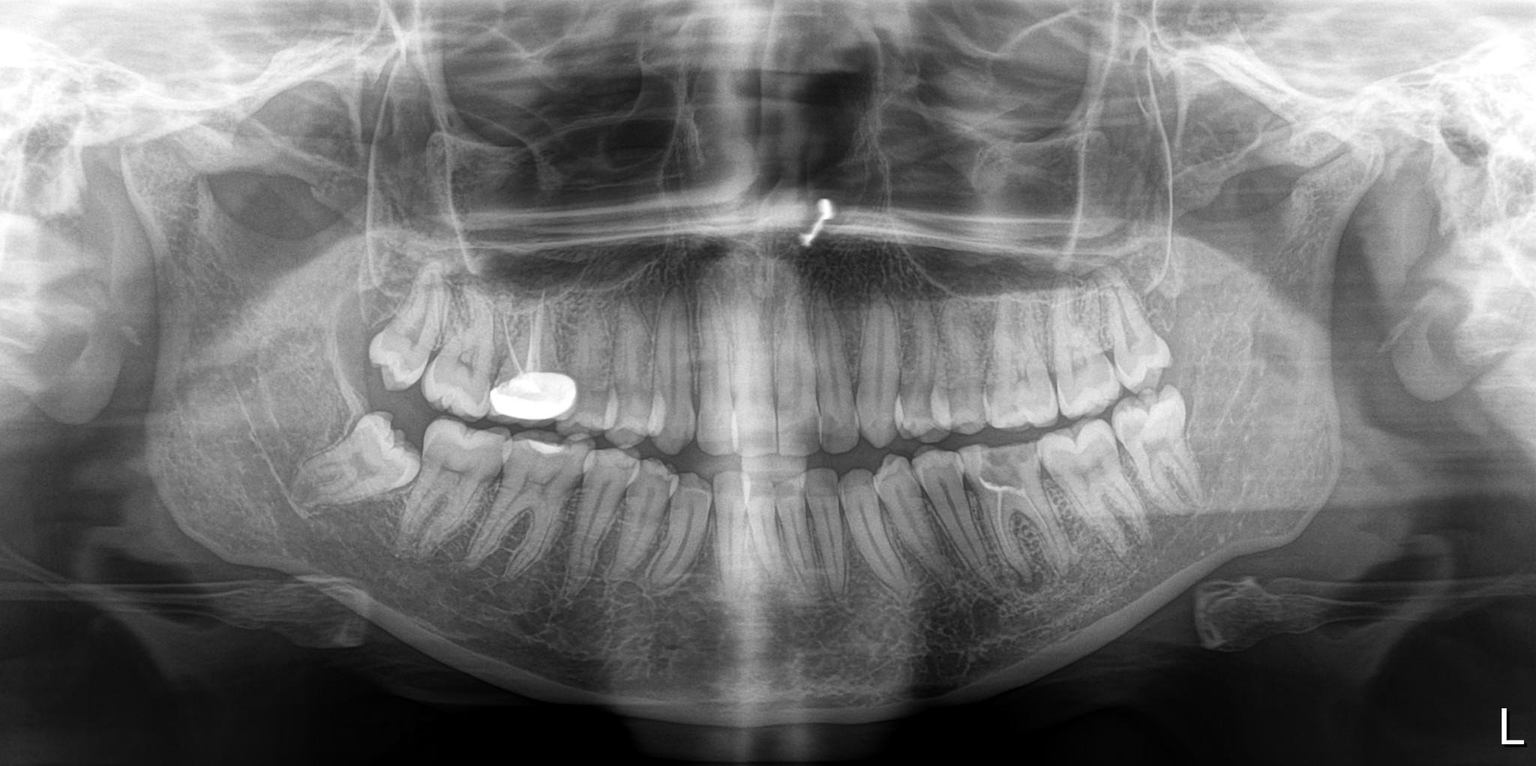Dental Caries: (981, 475, 1037, 528)
Endodontically Treated Tooth: (504, 304, 578, 423)
Impacted Third Molar: (1114, 389, 1196, 514), (312, 416, 414, 506)
Periapical Abnormality: (990, 537, 1078, 601)
